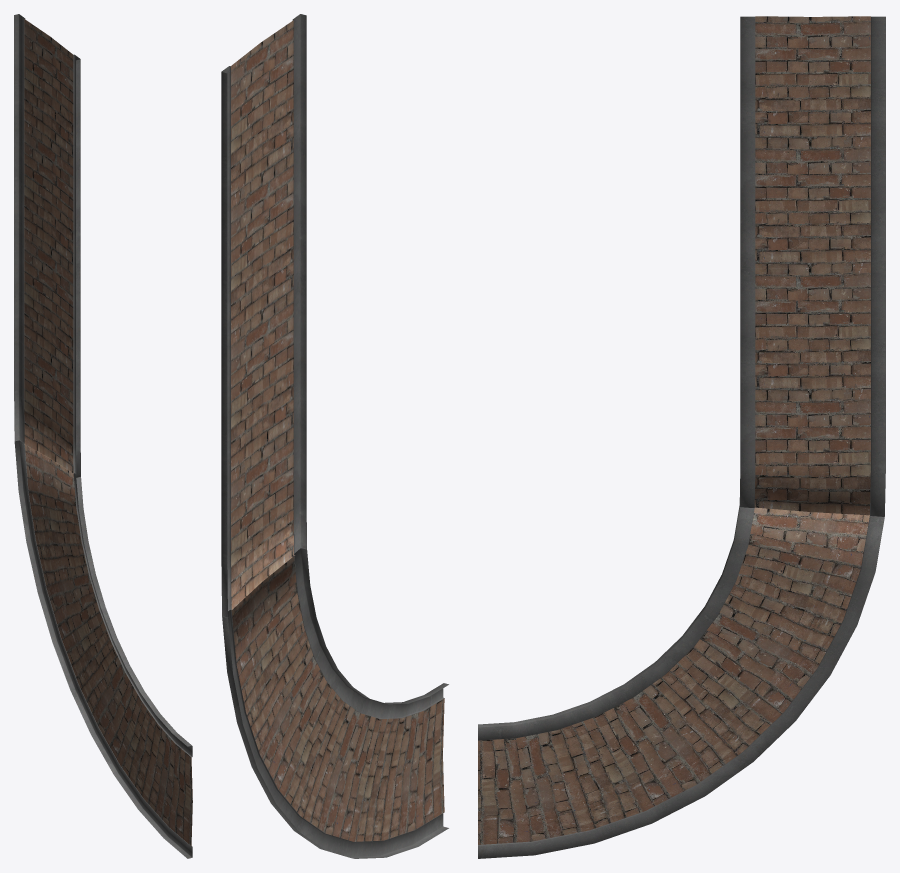
The model's file is cP_Pathway01_StraightCorner.dae.
3 views of the same model, side by side, from view 1: azimuth 30°, elevation 25°; view 2: azimuth 150°, elevation 25°; view 3: azimuth 270°, elevation 25° (orthographic). The views are drawn at different scales.
Visible parts, largest first — view 1: cP_Pathway01_StraightCorner.001; view 2: cP_Pathway01_StraightCorner.001; view 3: cP_Pathway01_StraightCorner.001.
Part boxes in pixels (<box>): cP_Pathway01_StraightCorner.001: <box>14,14,192,858</box>; cP_Pathway01_StraightCorner.001: <box>221,14,448,858</box>; cP_Pathway01_StraightCorner.001: <box>478,16,885,858</box>.
Size of the model in its own units: 0.0939 by 5.48 by 12.48.
